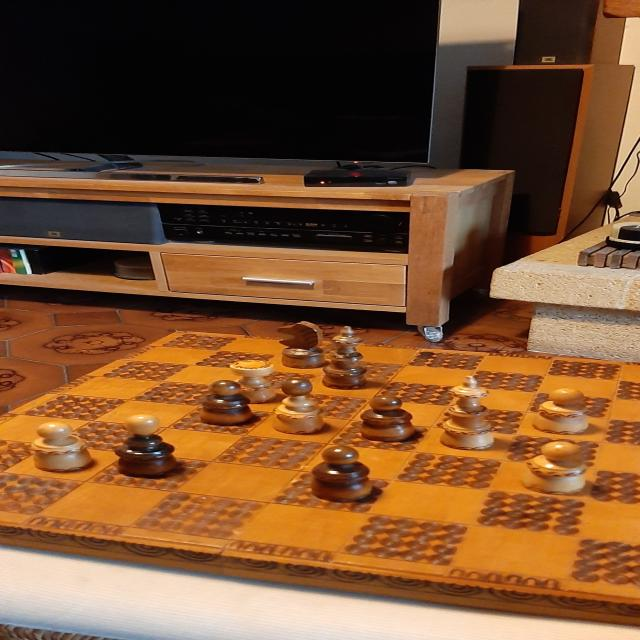black-bishop: (113, 413, 179, 478)
black-king: (322, 326, 368, 390)
black-knight: (277, 321, 325, 368)
black-pawn: (309, 444, 372, 504), (360, 395, 415, 442), (200, 380, 254, 426)
white-bishop: (272, 378, 324, 434)
white-king: (440, 376, 494, 450)
white-pawn: (520, 441, 588, 495), (31, 422, 94, 472), (532, 388, 588, 435)
white-rook: (230, 359, 277, 404)
